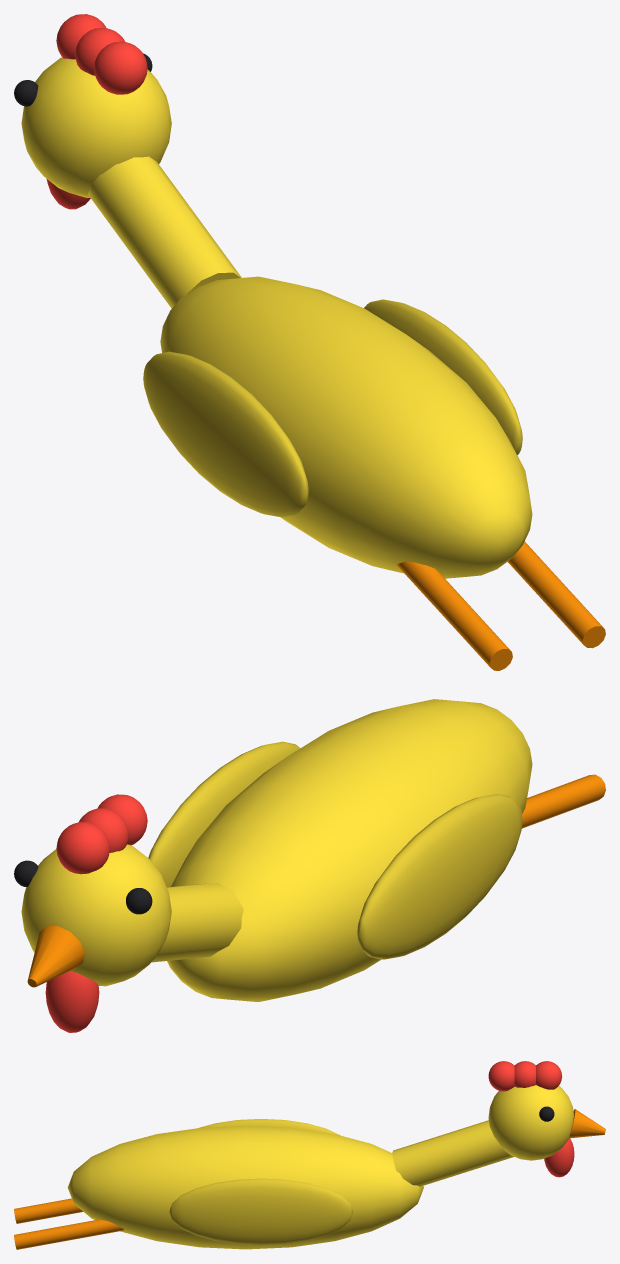
The model's file is rubber_chicken.fbx.
3 views of the same model, one above another, from view 1: azimuth 30°, elevation 25°; view 2: azimuth 150°, elevation 25°; view 3: azimuth 270°, elevation 25° (orthographic). The views are drawn at different scales.
Visible parts, largest first — view 1: Rubber Chicken; view 2: Rubber Chicken; view 3: Rubber Chicken.
Boxes of the visible parts, x1,y1,x2,y2 form: Rubber Chicken: (14, 14, 605, 670); Rubber Chicken: (14, 699, 605, 1032); Rubber Chicken: (14, 1061, 605, 1249).
Size of the model in its own units: 0.54 by 0.65 by 1.93.
